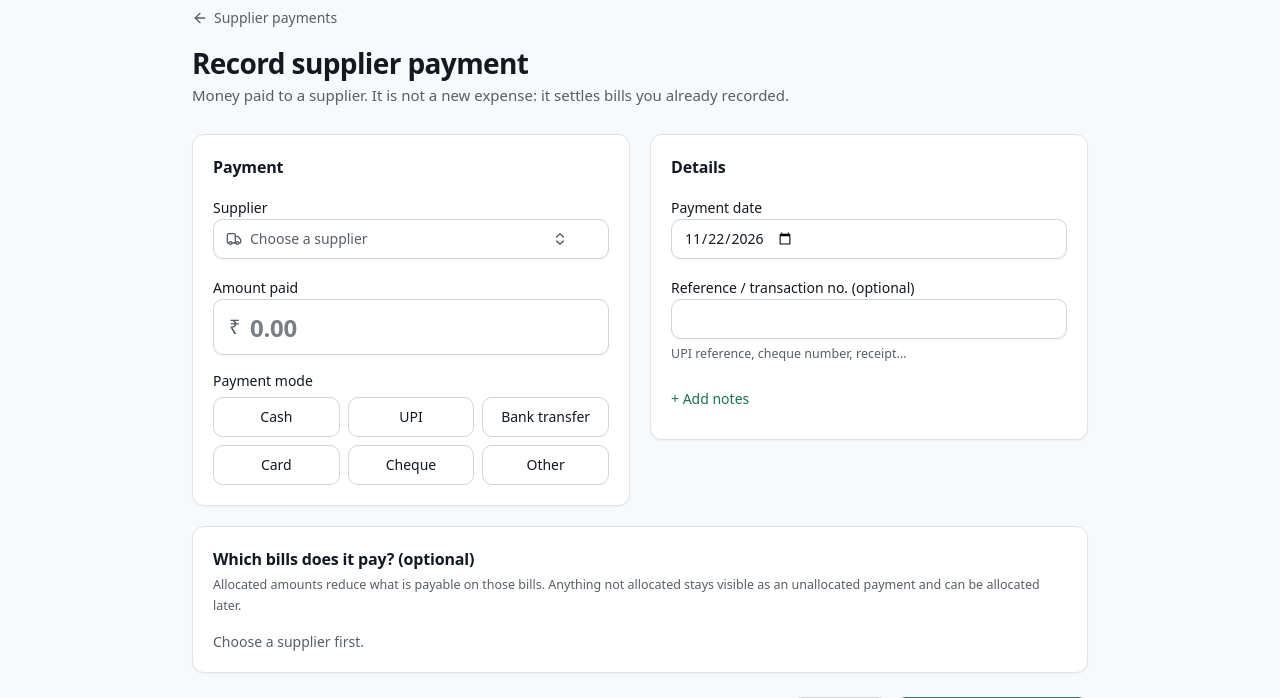
it: supplier payment form: supplier dropdown › asks the server only for suppliers with an outstanding balance (archived included) and shows what is owed
The image size is (1280, 698).
Click the button "Choose a supplier". click: {"x": 309, "y": 239}
box: [213,219,609,259]
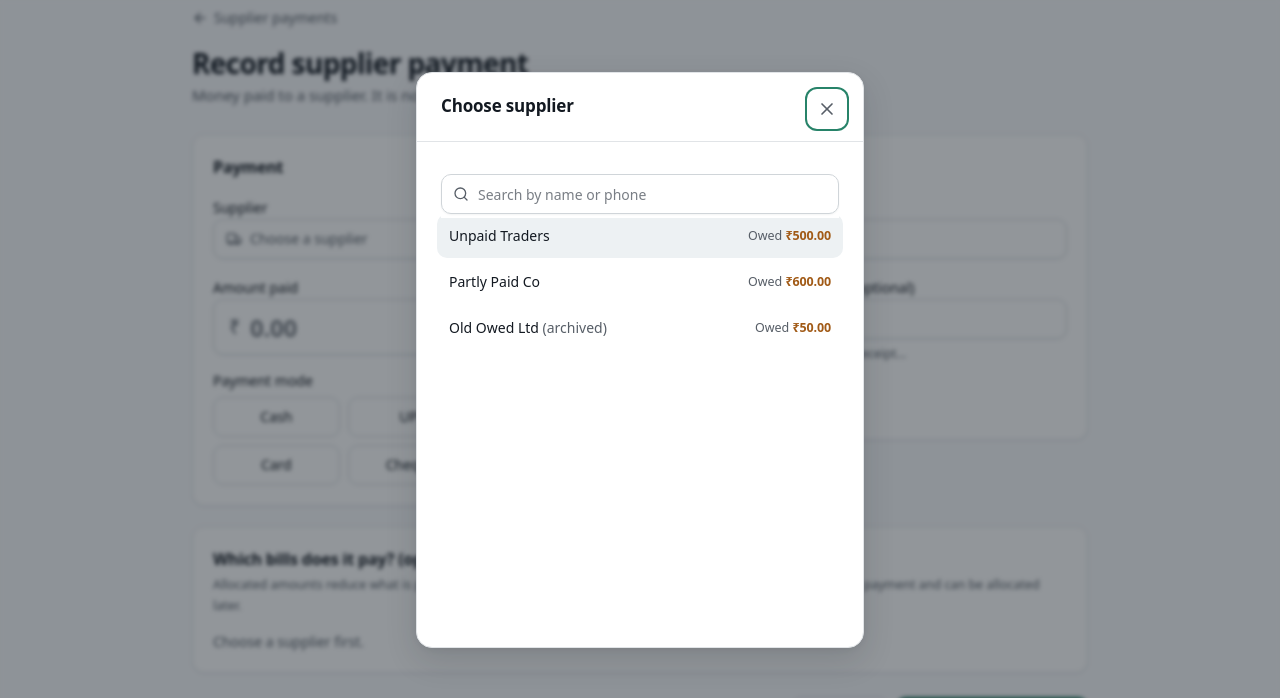
expect the option "Unpaid Traders Owed ₹500.00" is shown: met, box [437,214,843,258]
expect the number of options is 3: met, box [437,214,843,258]; [449,272,831,291]; [449,318,831,337]
expect the option "Partly Paid Co Owed ₹600.00" is shown: met, box [449,272,831,291]
